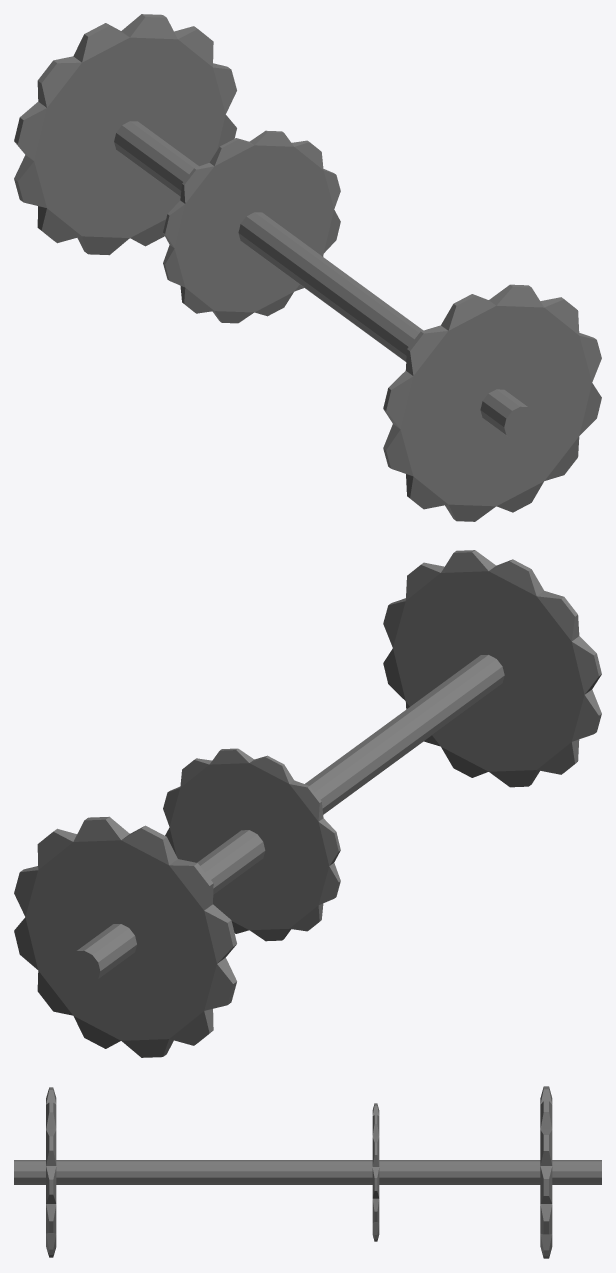
Rendered from Grid_switch_mech2.obj.
3 views of the same model, one above another, from view 1: azimuth 30°, elevation 25°; view 2: azimuth 150°, elevation 25°; view 3: azimuth 270°, elevation 25° (orthographic). The views are drawn at different scales.
Visible parts, largest first — view 1: Cylinder.005; view 2: Cylinder.005; view 3: Cylinder.005.
Part boxes in pixels (bbox=[...]): Cylinder.005: bbox=[14, 14, 601, 521]; Cylinder.005: bbox=[14, 550, 601, 1057]; Cylinder.005: bbox=[14, 1086, 601, 1258].
Size of the model in its own units: 1.24 by 1.24 by 4.27.
